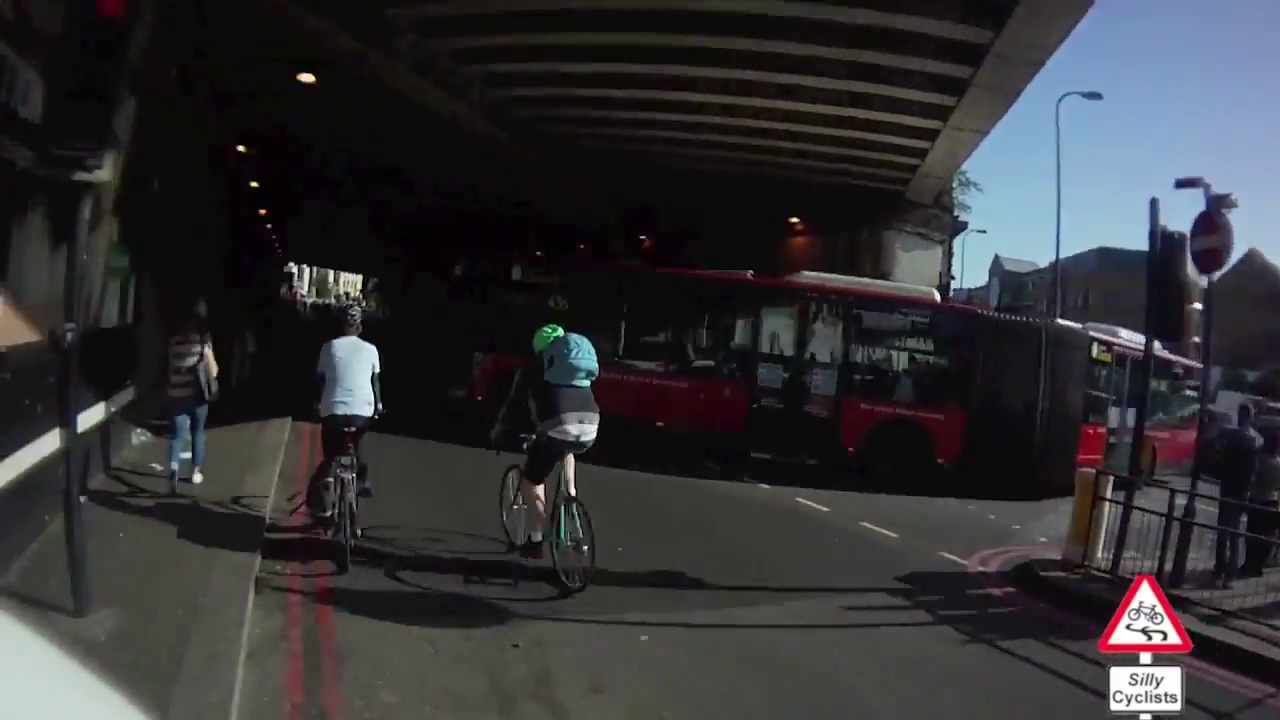cyclist_back: (482, 320, 601, 590), (307, 313, 383, 559)
